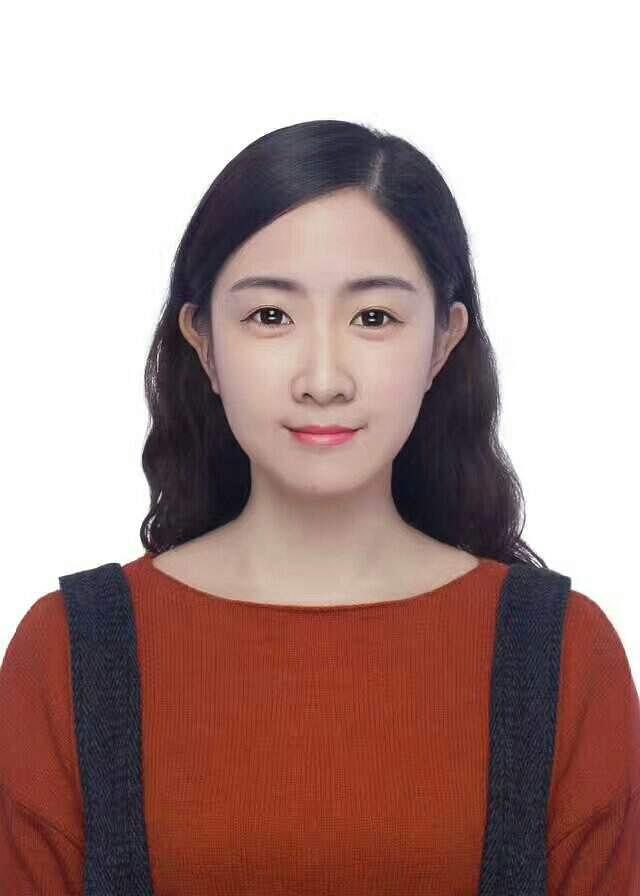unmask: (212, 201, 438, 495)
